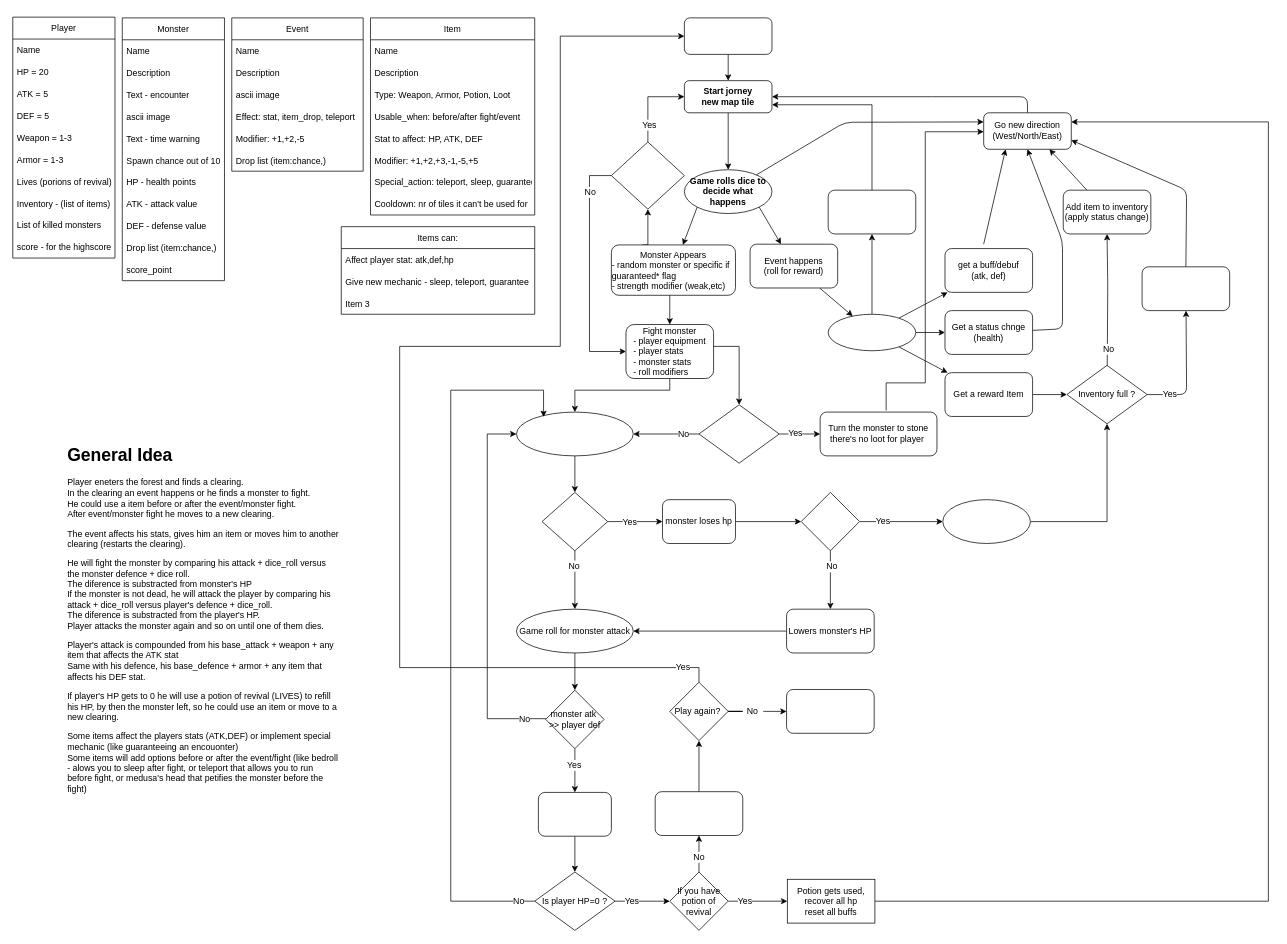
This 1287x944 diagram has some shape labels left out. The shapes that lost their labels are listed below. From the top down, each one's centre as x and y in pixels, then its label:
At (728,35): "Game start - tell story - get player name".
At (647,175): "Teleport (if you have item)".
At (871,211): "Moves player to new tile".
At (1185,288): "User can replace item or discard the new one (apply status change)".
At (871,332): "Game rolls for the reward".
At (574,433): "Game roll for player attack".
At (738,433): "Medusa head? (if you have item)".
At (574,521): "player atk >> monstet def".
At (830,521): "Is monster dead? (hp=0)".
At (986,521): "Game rolls for loot".
At (830,711): "Exit".
At (574,814): "Player looses HP".
At (698,813): "You are dead Game over (High Score Board)".
